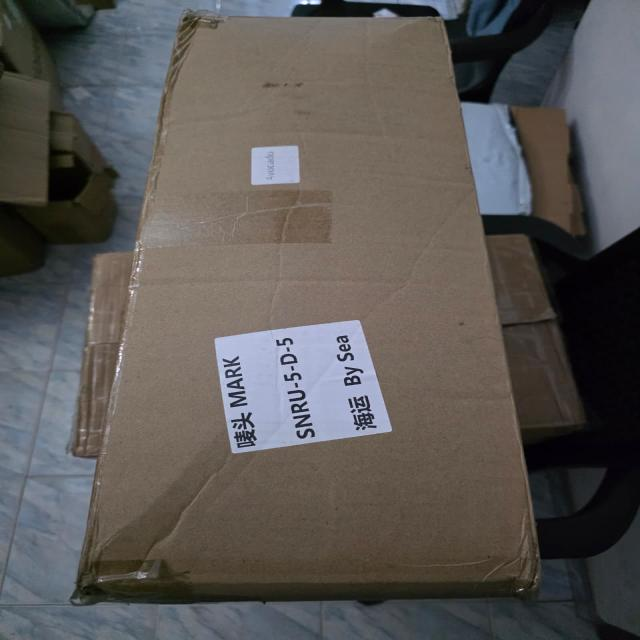carton_box: (70, 4, 564, 616)
export_mark_label: (207, 325, 400, 453)
package_damage: (155, 10, 213, 84)
